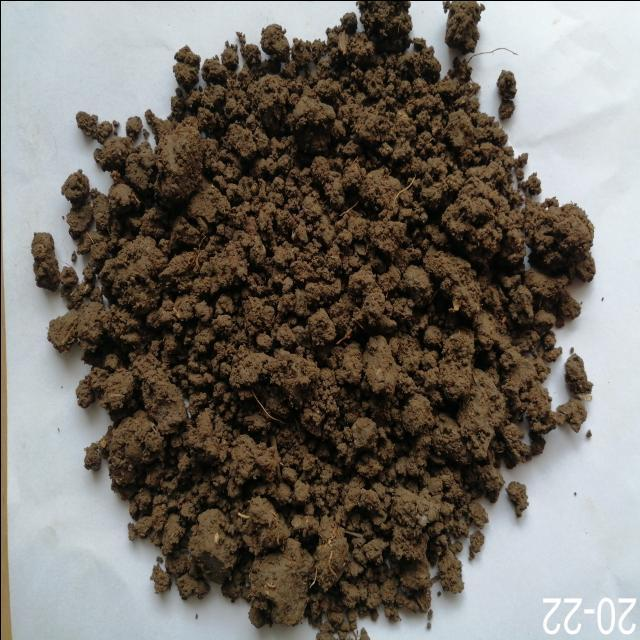soil: (175, 119, 467, 536)
